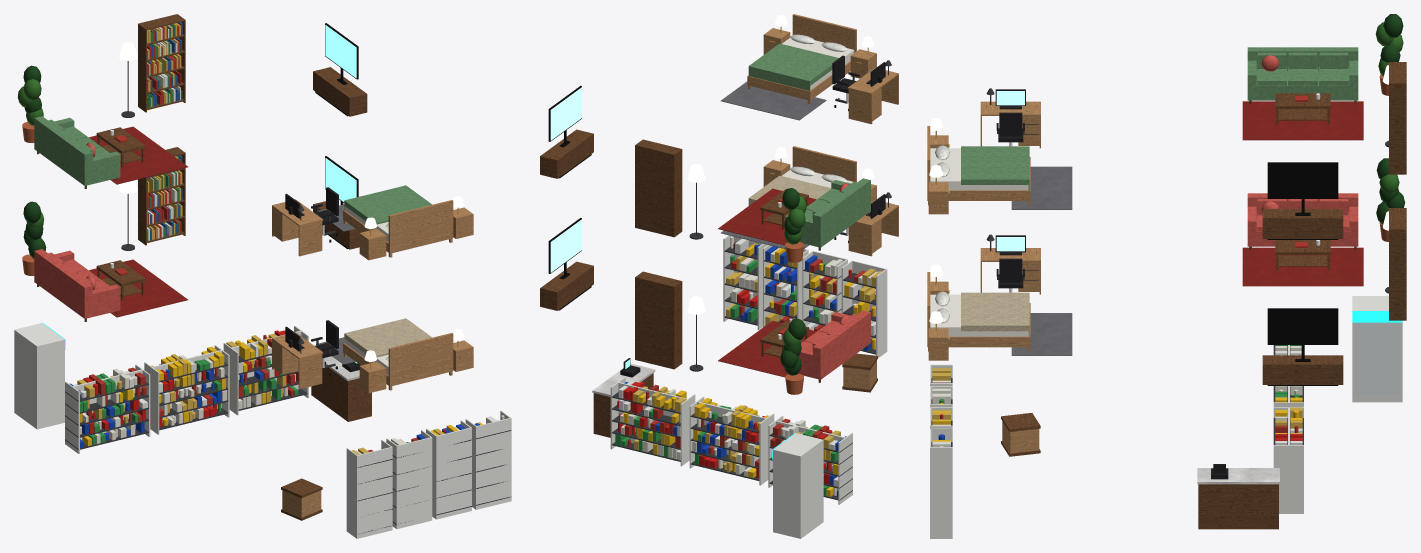
Rendered from i_corner_pharmacy.gltf.
3 renders of one model, left to right at view 1: azimuth 30°, elevation 25°; view 2: azimuth 150°, elevation 25°; view 3: azimuth 270°, elevation 25°, orthographic. The views are drawn at different scales.
Visible parts, largest first — view 1: I_corner_pharmacy; view 2: I_corner_pharmacy; view 3: I_corner_pharmacy.
Boxes of the visible parts, x1,y1,x2,y2 form: I_corner_pharmacy: (14,14,511,538); I_corner_pharmacy: (540,14,898,538); I_corner_pharmacy: (927,14,1406,538).
Size of the model in its own units: 7.29 by 8.6 by 9.51.
37 materials, 10 textured.
